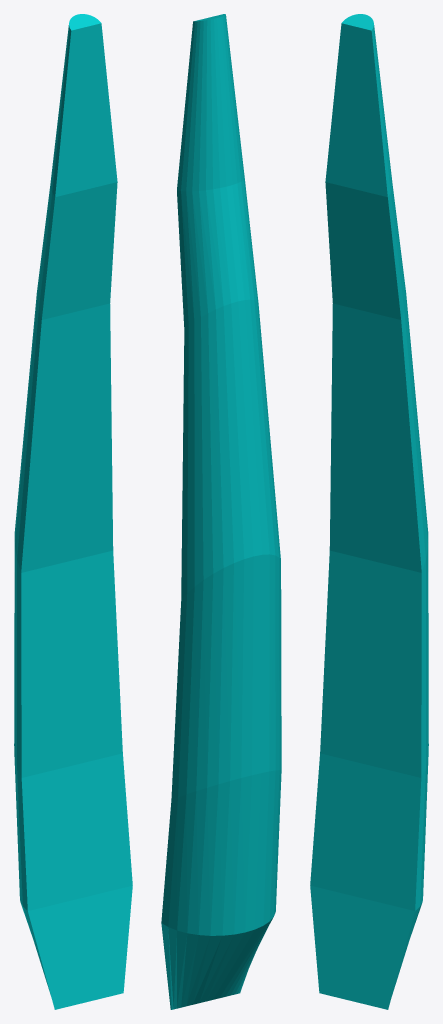
File: griper_arm_right_mesh.dae
3 views of the same model, side by side, from view 1: azimuth 30°, elevation 25°; view 2: azimuth 210°, elevation 25°; view 3: azimuth 330°, elevation 25° (orthographic).
Visible parts, largest first — view 1: griper_arm_right; view 2: griper_arm_right; view 3: griper_arm_right.
Part boxes in pixels (bbox=[...]): griper_arm_right: bbox=[14, 14, 132, 1009]; griper_arm_right: bbox=[161, 14, 281, 1009]; griper_arm_right: bbox=[310, 14, 428, 1009].
Size of the model in its own units: 0.9259 by 0.7285 by 8.25.
